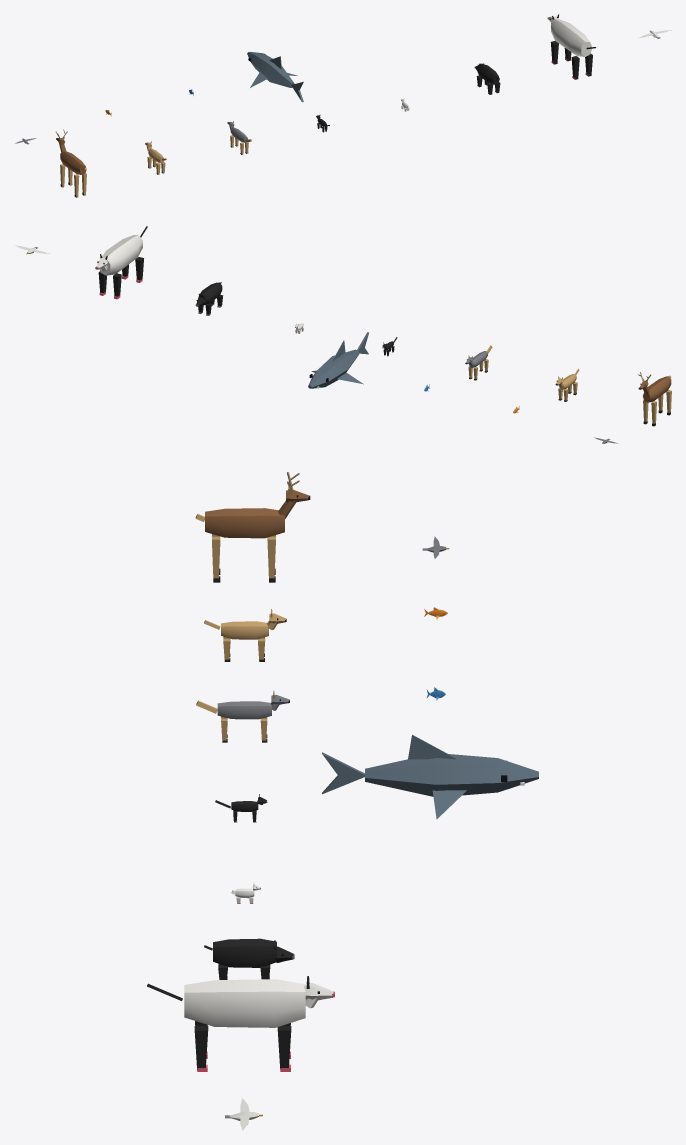
File: kit_animals.glb
3 views of the same model, one above another, from view 1: azimuth 30°, elevation 25°; view 2: azimuth 150°, elevation 25°; view 3: azimuth 270°, elevation 25° (orthographic). The views are drawn at different scales.
Visible parts, largest first — view 1: animal_shark_Body, animal_cow_Body, animal_deer_Body, animal_boar_Body; view 2: animal_shark_Body, animal_cow_Body, animal_deer_Body; view 3: animal_shark_Body, animal_cow_Body, animal_deer_Body, animal_boar_Body, animal_coyote_Body.
Part boxes in pixels (x1,y1,x2,y2): animal_shark_Body: (247,52,297,87); animal_cow_Body: (551,19,591,56); animal_deer_Body: (60,151,86,174); animal_boar_Body: (477,63,499,84); animal_shark_Body: (308,340,363,388); animal_cow_Body: (99,234,142,275); animal_deer_Body: (643,376,671,402); animal_shark_Body: (365,734,538,819); animal_cow_Body: (184,979,305,1027); animal_deer_Body: (205,508,284,538); animal_boar_Body: (213,938,276,967); animal_coyote_Body: (217,701,271,719).
Size of the model in its own units: 22.04 by 1.75 by 6.13.
